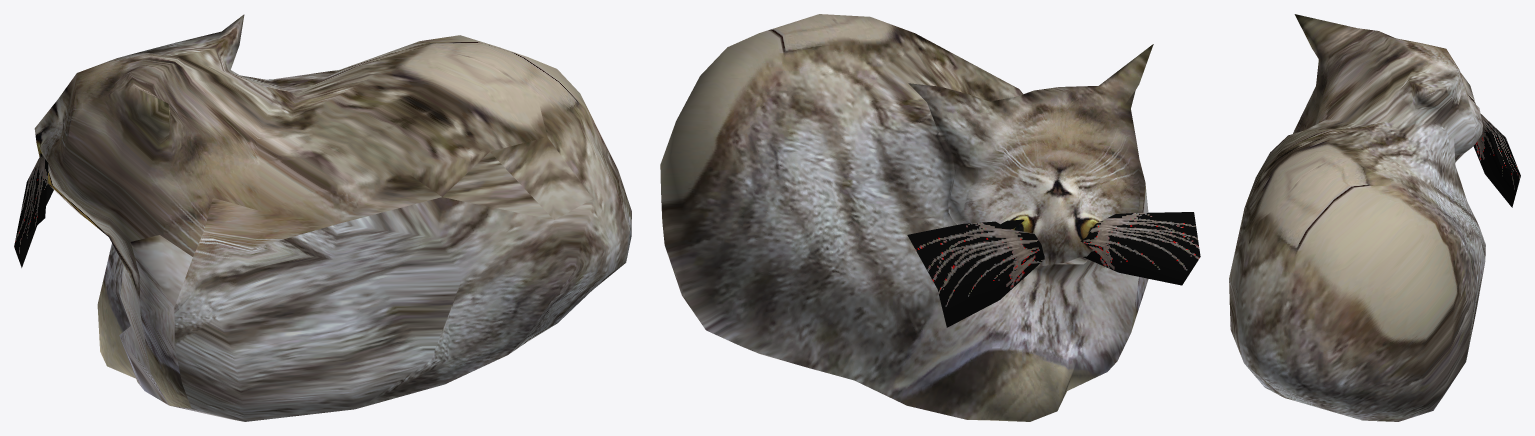
File: mars.obj
The picture shows the model from 3 angles, left to right: view 1: azimuth 30°, elevation 25°; view 2: azimuth 150°, elevation 25°; view 3: azimuth 270°, elevation 25°; orthographic projection. The views are drawn at different scales.
Visible parts, largest first — view 1: dingus_dingus_0_dingus_dingus_0.001, dingus_whiskers_0_dingus_whiskers_0.001; view 2: dingus_dingus_0_dingus_dingus_0.001, dingus_whiskers_0_dingus_whiskers_0.001; view 3: dingus_dingus_0_dingus_dingus_0.001, dingus_whiskers_0_dingus_whiskers_0.001.
Boxes of the visible parts, bbox=[...] form: dingus_dingus_0_dingus_dingus_0.001: bbox=[34, 14, 631, 421]; dingus_whiskers_0_dingus_whiskers_0.001: bbox=[14, 153, 53, 267]; dingus_dingus_0_dingus_dingus_0.001: bbox=[660, 14, 1153, 421]; dingus_whiskers_0_dingus_whiskers_0.001: bbox=[907, 212, 1200, 327]; dingus_dingus_0_dingus_dingus_0.001: bbox=[1229, 14, 1485, 421]; dingus_whiskers_0_dingus_whiskers_0.001: bbox=[1473, 114, 1520, 207].
Bounding box in the file's own units: 1.93 × 1.11 × 1.09.
